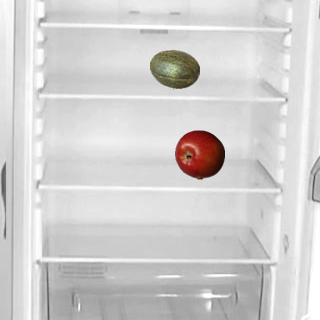Apple Braeburn: (174, 129, 224, 179)
Melon Piel de Sapo: (149, 44, 199, 94)
